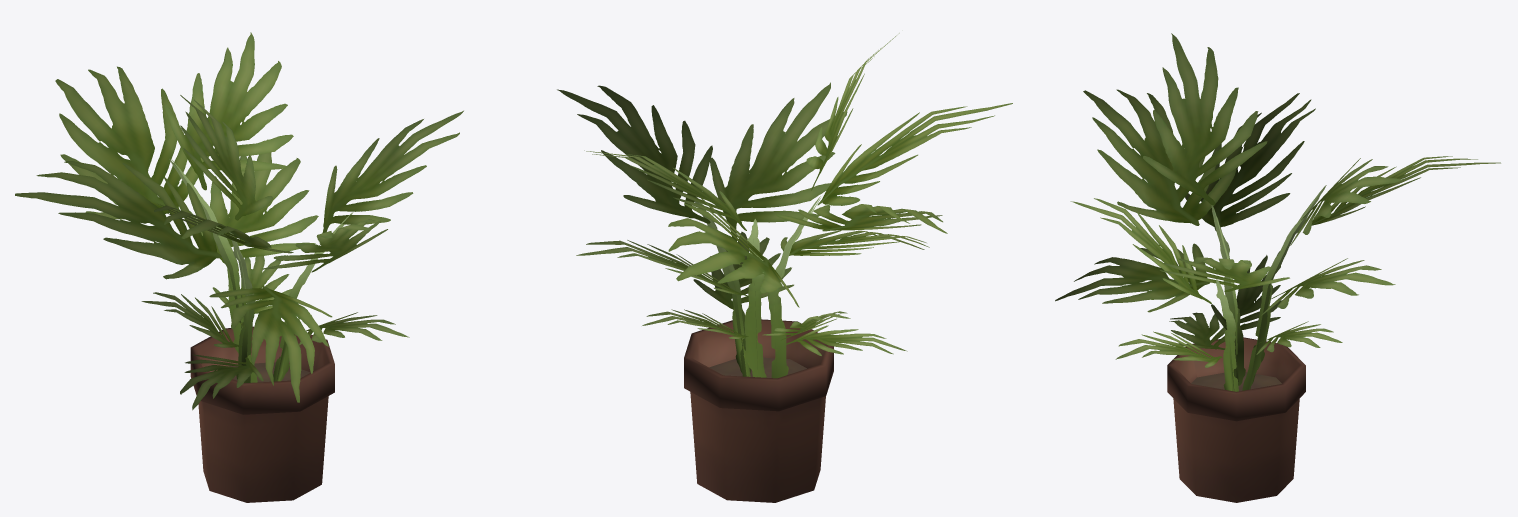
File: House_Plants.fbx
The picture shows the model from 3 angles, left to right: view 1: azimuth 30°, elevation 25°; view 2: azimuth 150°, elevation 25°; view 3: azimuth 270°, elevation 25°; orthographic projection. The views are drawn at different scales.
Visible parts, largest first — view 1: Leaves, House_Plants; view 2: Leaves, House_Plants; view 3: Leaves, House_Plants.
Boxes of the visible parts, box(x1,y1,x2,y2) form: Leaves: box(15, 32, 463, 410); House_Plants: box(190, 326, 334, 502); Leaves: box(557, 33, 1012, 378); House_Plants: box(684, 319, 833, 502); Leaves: box(1055, 33, 1500, 391); House_Plants: box(1167, 337, 1305, 502).
Size of the model in its own units: 0.7514 by 0.7175 by 0.7228.
